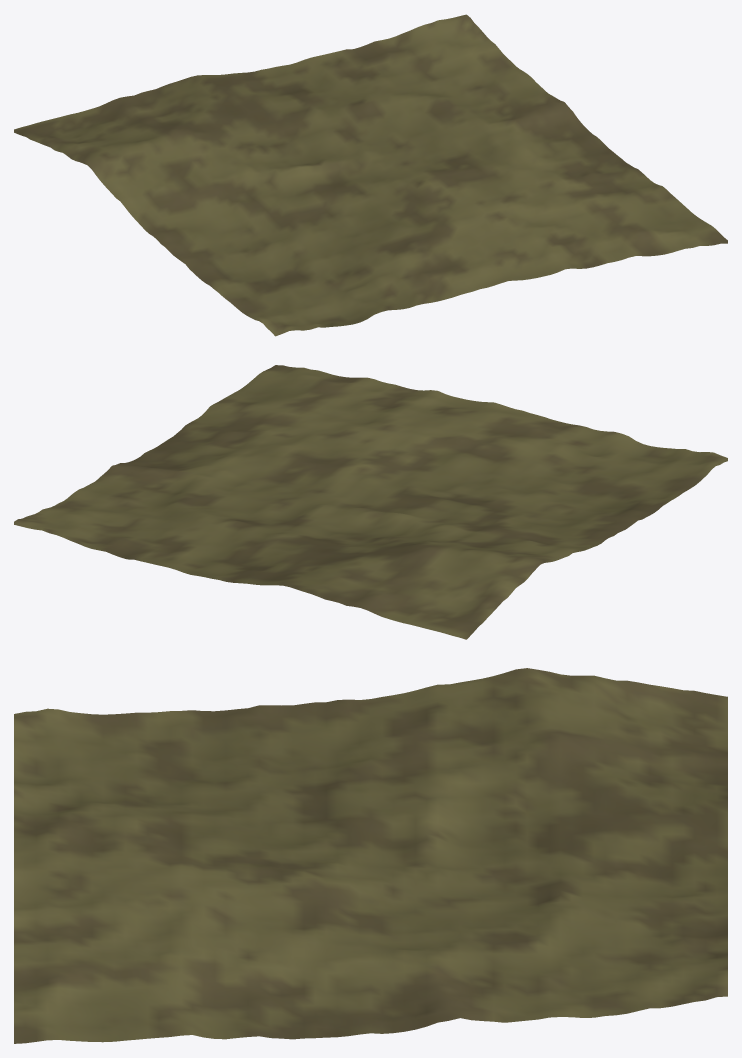
File: land_f_02_03.glb
The picture shows the model from 3 angles, top to bottom: view 1: azimuth 30°, elevation 25°; view 2: azimuth 150°, elevation 25°; view 3: azimuth 270°, elevation 25°; orthographic projection. The views are drawn at different scales.
Parts seen in each view (by area): view 1: land_f_02_03; view 2: land_f_02_03; view 3: land_f_02_03.
Boxes of the visible parts, <box> form: land_f_02_03: <box>14,14,727,336</box>; land_f_02_03: <box>14,365,727,639</box>; land_f_02_03: <box>14,668,727,1043</box>.
Bounding box in the file's own units: 3840 × 444 × 3840.
